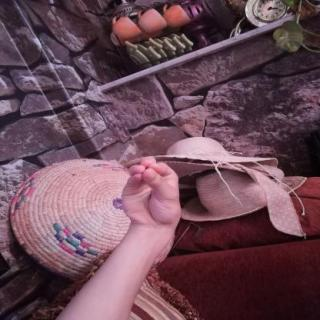HA: (110, 149, 195, 235)
